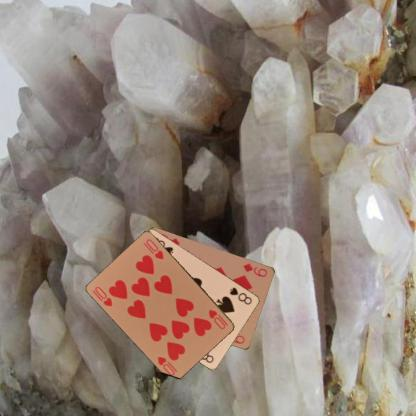10h: (206, 307, 230, 330), (92, 284, 115, 308)
8s: (227, 284, 254, 306)
9d: (240, 260, 269, 278)
